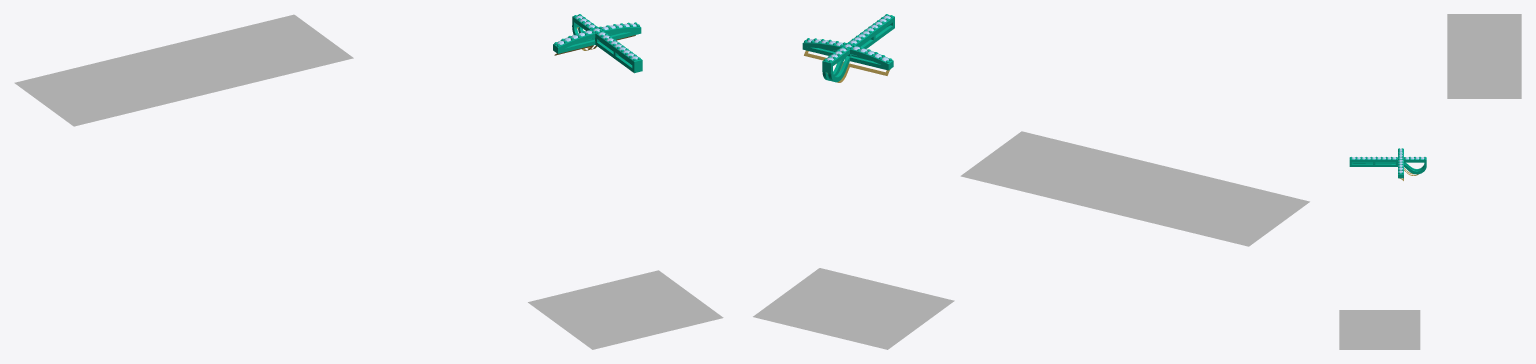
3 renders of one model, left to right at view 1: azimuth 30°, elevation 25°; view 2: azimuth 150°, elevation 25°; view 3: azimuth 270°, elevation 25°, orthographic. The views are drawn at different scales.
Parts seen in each view (by area): view 1: VBP117(base).3dm; view 2: VBP117(base).3dm; view 3: VBP117(base).3dm.
Boxes of the visible parts, <box> form: VBP117(base).3dm: <box>14,14,723,349</box>; VBP117(base).3dm: <box>753,14,1309,349</box>; VBP117(base).3dm: <box>1339,14,1521,349</box>.
Size of the model in its own units: 16.32 by 7.52 by 7.36.
